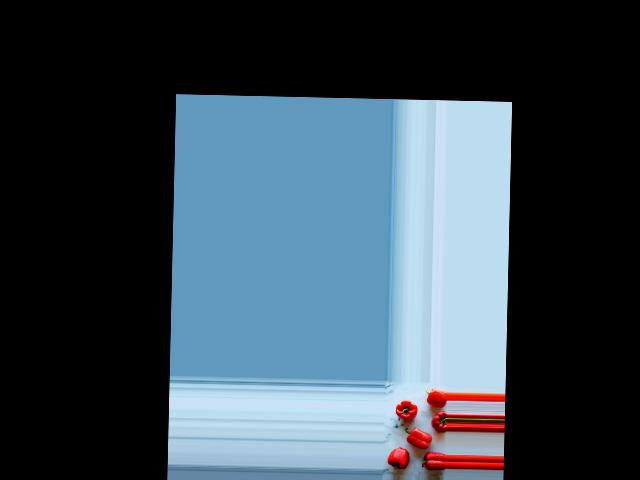bell_pepper: (430, 411, 446, 433)
